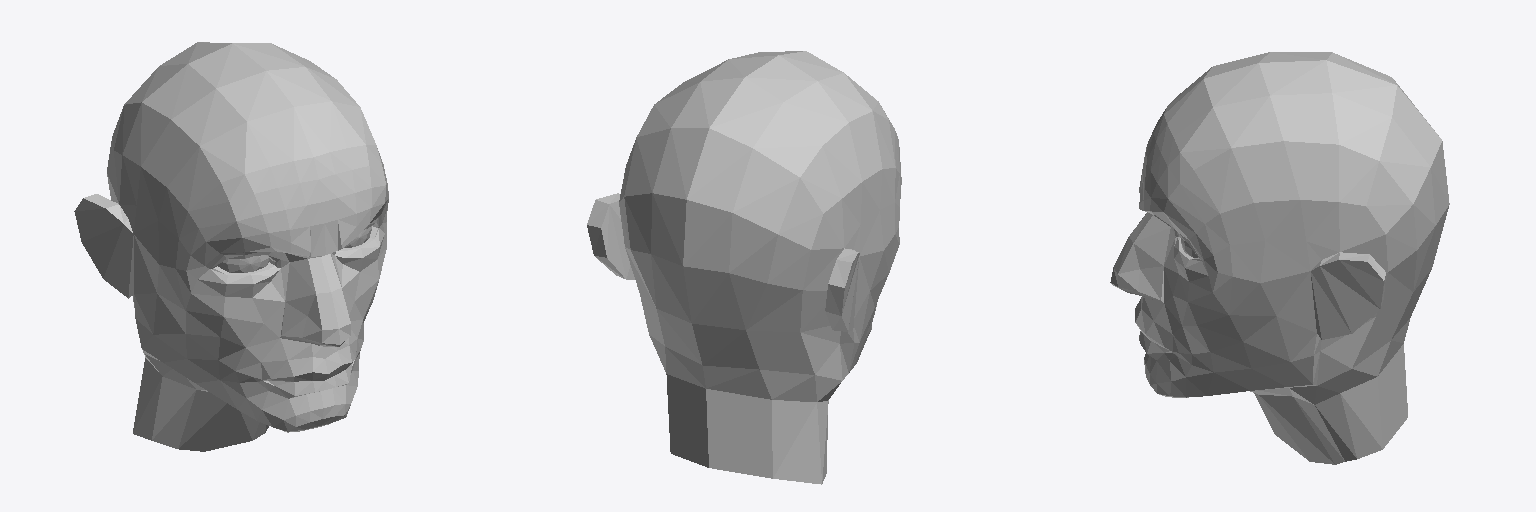
The model's file is Head_bold.obj.
The picture shows the model from 3 angles: view 1: azimuth 30°, elevation 25°; view 2: azimuth 150°, elevation 25°; view 3: azimuth 270°, elevation 25°; orthographic projection.
Parts seen in each view (by area): view 1: head; view 2: head; view 3: head.
Boxes of the visible parts, <box> form: head: <box>74,42,388,451</box>; head: <box>587,51,901,484</box>; head: <box>1110,52,1449,464</box>.
Bounding box in the file's own units: 7.34 × 10.62 × 8.34.